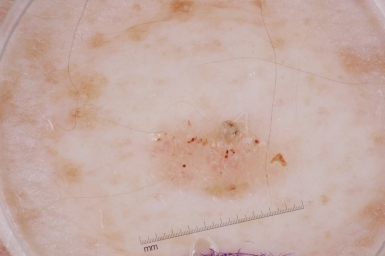seborrheic keratosis: (135, 113, 293, 206)
